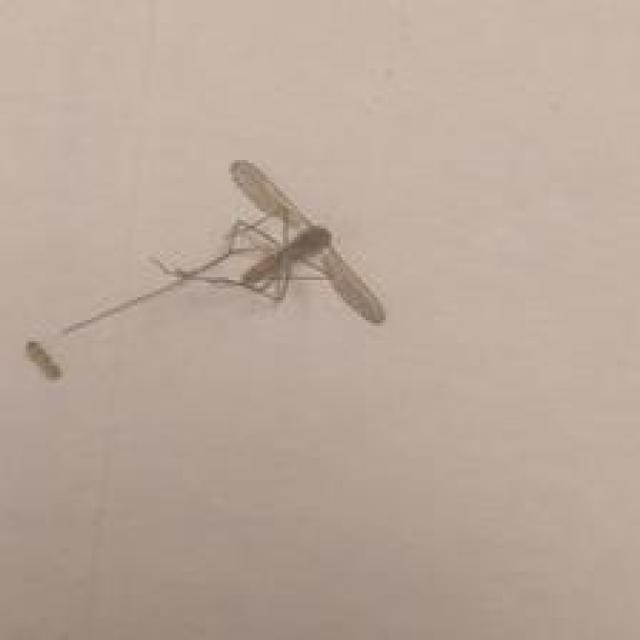Culex: (24, 157, 387, 380)
